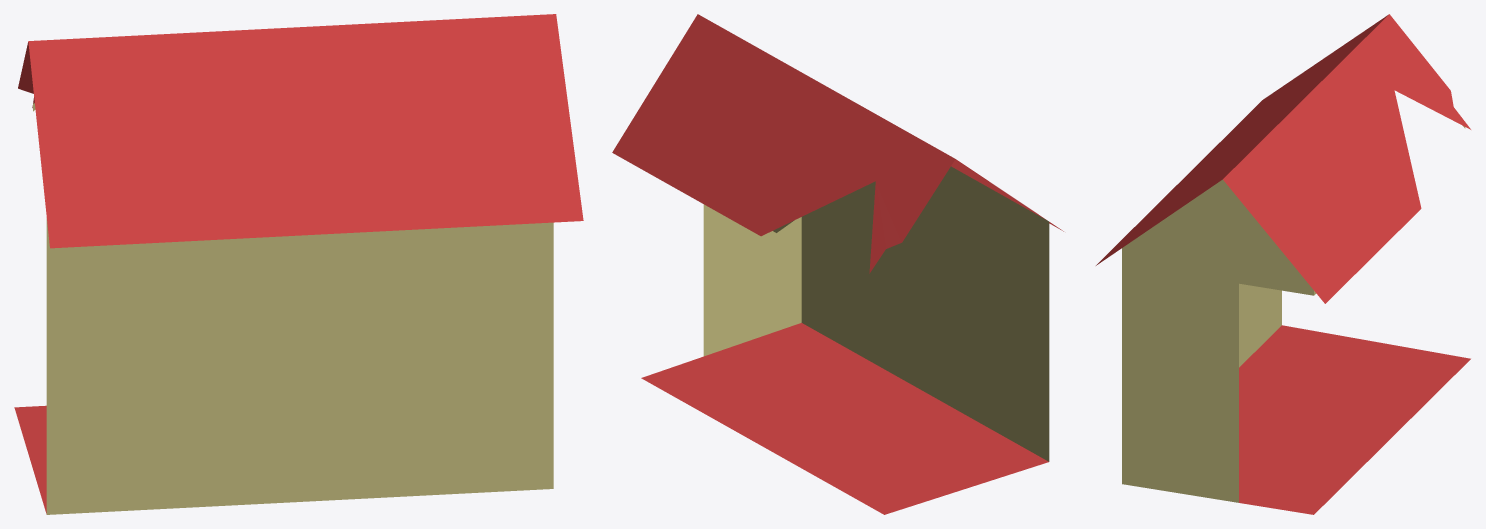
3 views of the same model, side by side, from view 1: azimuth 30°, elevation 25°; view 2: azimuth 150°, elevation 25°; view 3: azimuth 270°, elevation 25° (orthographic). The views are drawn at different scales.
Size of the model in its own units: 17.46 by 13.63 by 13.16.
